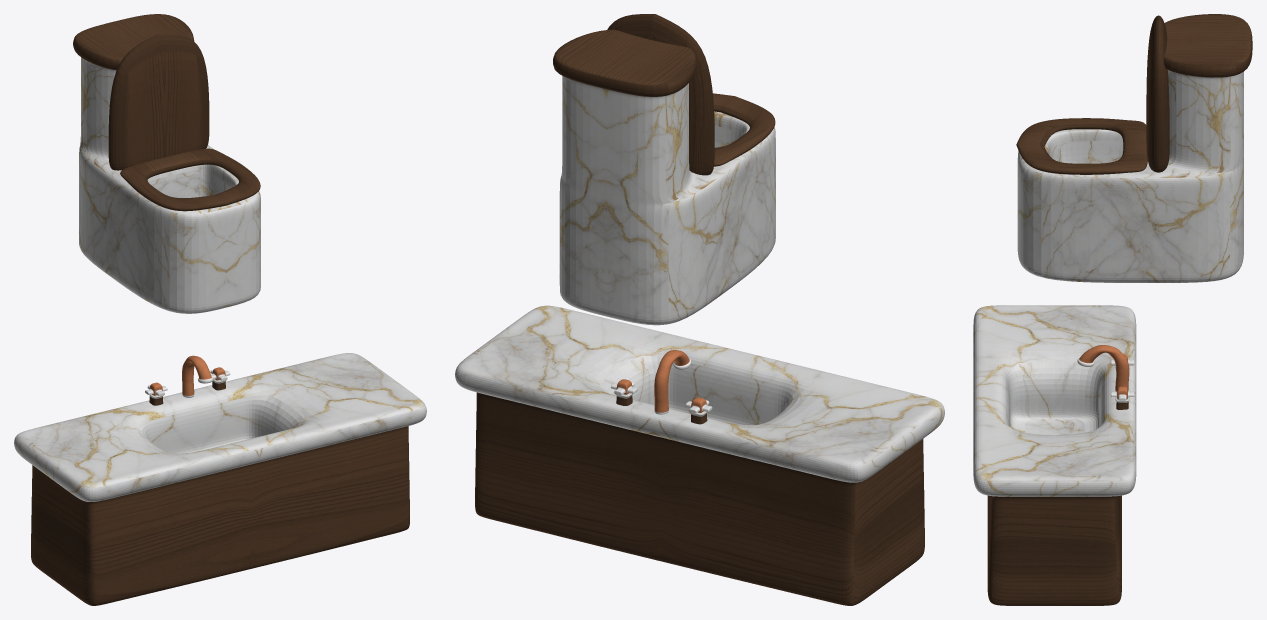
File: Baño.fbx
3 views of the same model, side by side, from view 1: azimuth 30°, elevation 25°; view 2: azimuth 150°, elevation 25°; view 3: azimuth 270°, elevation 25° (orthographic). The views are drawn at different scales.
Parts seen in each view (by area): view 1: BañoJunto, InodoroJunto; view 2: BañoJunto, InodoroJunto; view 3: InodoroJunto, BañoJunto.
Part boxes in pixels (left/top/right/bottom): BañoJunto: left=14, top=353, right=426, bottom=605; InodoroJunto: left=73, top=14, right=260, bottom=313; BañoJunto: left=455, top=305, right=944, bottom=605; InodoroJunto: left=553, top=14, right=775, bottom=325; InodoroJunto: left=1016, top=14, right=1252, bottom=282; BañoJunto: left=973, top=305, right=1136, bottom=605.
Size of the model in its own units: 1036 by 1367 by 691.
Materials: 5 (4 with a texture image).
